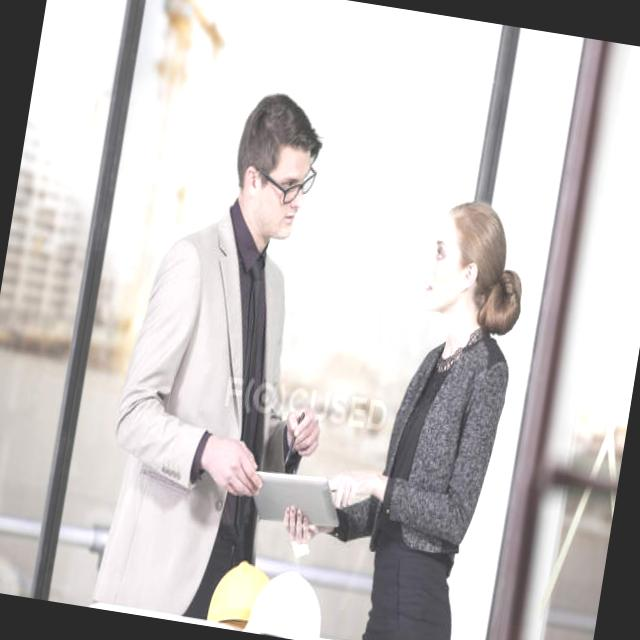no-goggles: (260, 164, 320, 210), (426, 236, 472, 274)
no-helmet: (235, 70, 336, 162), (430, 173, 525, 244)
no-vest: (131, 221, 319, 557), (370, 323, 507, 590)
